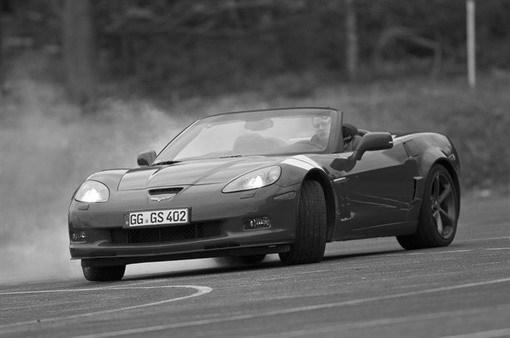car: (69, 109, 461, 284)
